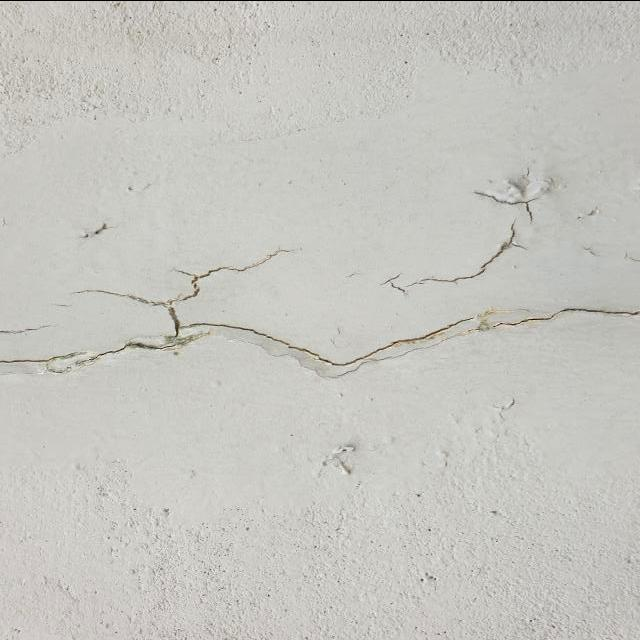SurfaceCrack: (2, 150, 634, 415)
